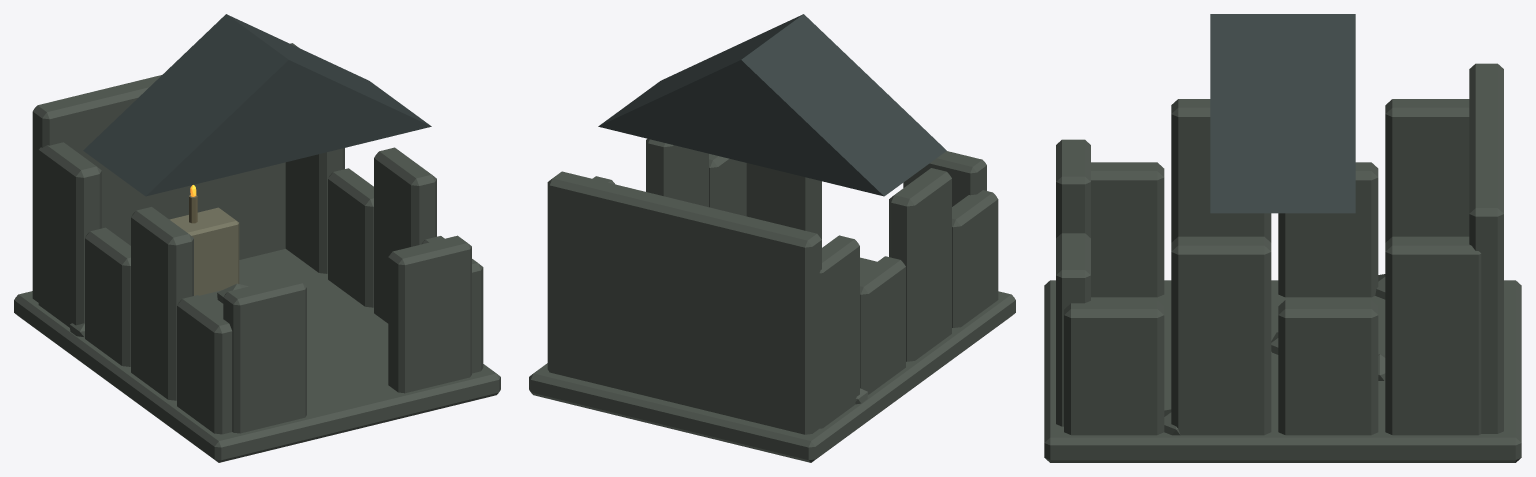
File: SM_ENV_Building_04_RuinedChapel.glb
3 views of the same model, side by side, from view 1: azimuth 30°, elevation 25°; view 2: azimuth 150°, elevation 25°; view 3: azimuth 270°, elevation 25° (orthographic). The views are drawn at different scales.
Parts seen in each view (by area): view 1: SM_ENV_Building_04_RuinedChapel; view 2: SM_ENV_Building_04_RuinedChapel; view 3: SM_ENV_Building_04_RuinedChapel.
Boxes of the visible parts, x1,y1,x2,y2 form: SM_ENV_Building_04_RuinedChapel: (14,14,500,462); SM_ENV_Building_04_RuinedChapel: (529,14,1015,462); SM_ENV_Building_04_RuinedChapel: (1044,14,1521,462).
Bounding box in the file's own units: 3.3 × 3.51 × 4.1.
